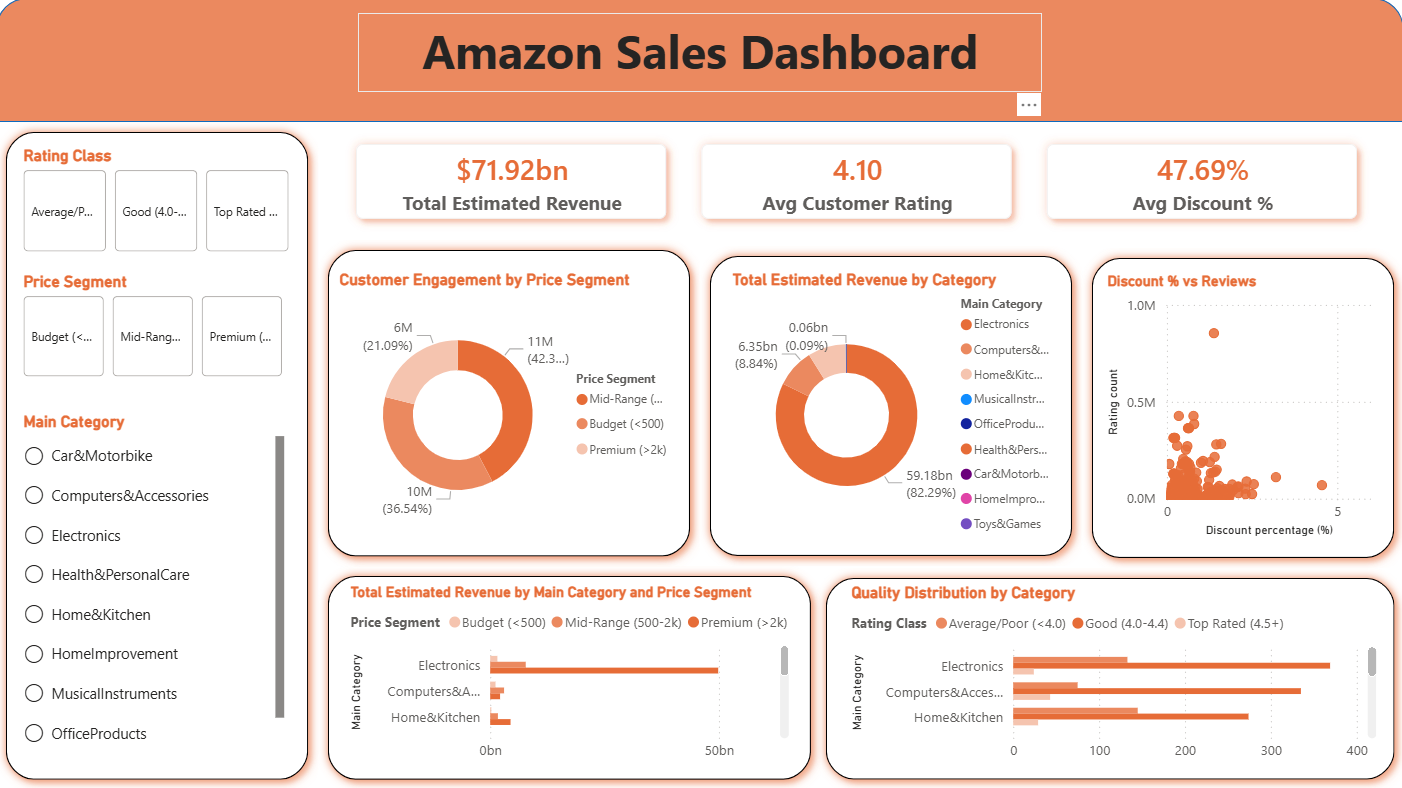

This screenshot's page, from the dashboard's own definition file:
{"tool":"powerbi","page":{"name":"Page 1","canvas":[1280,720],"ordinal":0},"visuals":[{"type":"shape","box":[292.8,516.5,457.1,203.3],"z":0},{"type":"shape","box":[640,225.7,347.2,290.8],"z":1000},{"type":"cardVisual","fields":{"Data":["amazon.Total Estimated Revenue","amazon.Avg Customer Rating","amazon.Avg Discount %"]},"box":[307.4,112.8,952.2,108.9],"z":2000},{"type":"shape","box":[0,0,1279.7,112.8],"z":3000},{"type":"shape","box":[292.8,219.8,347.2,296.7],"z":4000},{"type":"textbox","box":[328.8,13.6,622.5,72],"z":5000},{"type":"donutChart","title":"Total Estimated Revenue by Category","fields":{"Category":["amazon.category.1"],"Y":["amazon.Total Estimated Revenue"]},"box":[664.3,248,307.4,246.1],"z":6000},{"type":"shape","box":[0,112.8,292.8,606.9],"z":7000},{"type":"donutChart","title":"Customer Engagement by Price Segment","fields":{"Category":["amazon.Price Segment"],"Y":["Sum(amazon.rating_count)"]},"box":[307.4,248,318.1,246.1],"z":8000},{"type":"listSlicer","fields":{"Values":["amazon.category.1"]},"box":[20.4,377.4,247.1,314.2],"z":9000},{"type":"clusteredBarChart","fields":{"Category":["amazon.category.1"],"Series":["amazon.Price Segment"],"Y":["amazon.Total Estimated Revenue"]},"box":[317.1,533,408.5,169.2],"z":10000},{"type":"advancedSlicerVisual","fields":{"Values":["amazon.Rating Class"]},"box":[20.4,135.2,253.9,100.2],"z":11000},{"type":"advancedSlicerVisual","fields":{"Values":["amazon.Price Segment"]},"box":[20.4,250,247.1,99.2],"z":12000},{"type":"shape","box":[745,518.4,535,201.3],"z":13000},{"type":"shape","box":[987.2,227.6,292.8,290.8],"z":14000},{"type":"clusteredBarChart","title":"Quality Distribution by Category","fields":{"Category":["amazon.category.1"],"Y":["CountNonNull(amazon.product_id)"],"Series":["amazon.Rating Class"]},"box":[772.3,533,487.3,169.2],"z":15000},{"type":"scatterChart","title":"Discount % vs Reviews","fields":{"X":["Sum(amazon.discount_percentage)"],"Y":["Sum(amazon.rating_count)"],"Category":["amazon.product_name"]},"box":[1005.7,250,253.9,244.1],"z":16000}]}

Visuals, with their boxes in screenshot pixels (x1, y1, x2, y2), scaled from the page's 1280x720 canvas onto the 1402x788 screenshot:
shape: region(321, 565, 821, 787)
shape: region(701, 247, 1081, 565)
cardVisual - amazon.Total Estimated Revenue x amazon.Avg Customer Rating: region(337, 123, 1380, 243)
shape: region(0, 0, 1401, 123)
shape: region(321, 241, 701, 565)
textbox: region(360, 15, 1042, 94)
"Total Estimated Revenue by Category" donutChart: region(728, 271, 1064, 541)
shape: region(0, 123, 321, 787)
"Customer Engagement by Price Segment" donutChart: region(337, 271, 685, 541)
listSlicer - amazon.category.1: region(22, 413, 293, 757)
clusteredBarChart - amazon.category.1 x amazon.Price Segment: region(347, 583, 795, 769)
advancedSlicerVisual - amazon.Rating Class: region(22, 148, 300, 258)
advancedSlicerVisual - amazon.Price Segment: region(22, 274, 293, 382)
shape: region(816, 567, 1401, 787)
shape: region(1081, 249, 1401, 567)
"Quality Distribution by Category" clusteredBarChart: region(846, 583, 1380, 769)
"Discount % vs Reviews" scatterChart: region(1102, 274, 1380, 541)
